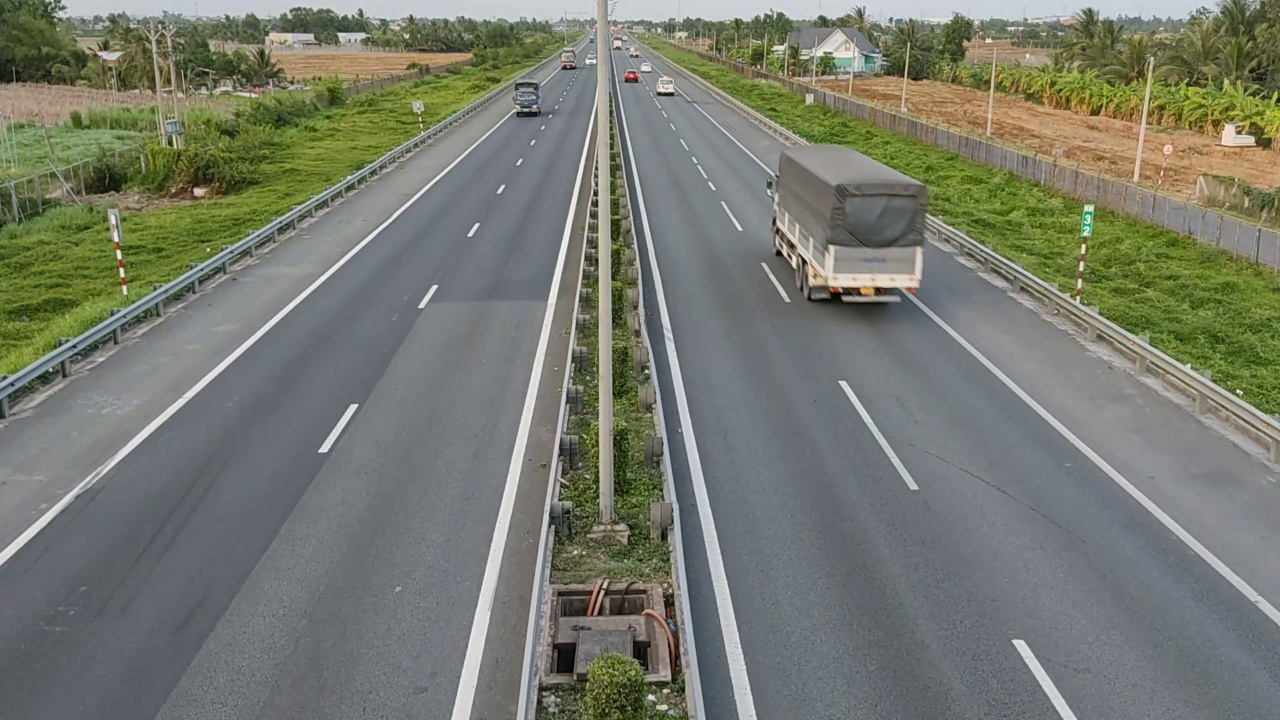car: (655, 75, 675, 96)
truck: (766, 142, 929, 303)
